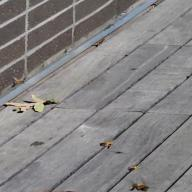Bee: (121, 175, 164, 192), (86, 138, 124, 151), (126, 161, 145, 174)
